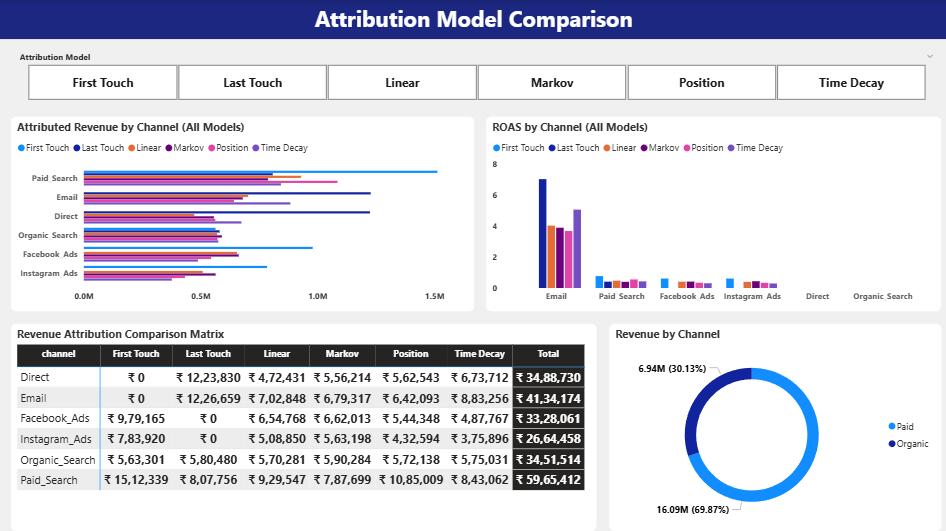

The page's visual inventory and layout, read from the dashboard file:
{"tool":"powerbi","page":{"name":"Attribution Analysis","canvas":[1380,780],"ordinal":1},"visuals":[{"type":"textbox","box":[0,0,1379.2,57.3],"z":0},{"type":"clusteredBarChart","title":"Attributed Revenue by Channel (All Models)","fields":{"Category":["attribution_comparison.channel"],"Y":["Sum(attribution_comparison.attributed_revenue)"],"Series":["attribution_comparison.attribution_model"]},"box":[15.2,170.3,674.4,283.3],"z":2000},{"type":"donutChart","title":"Revenue by Channel","fields":{"Category":["attribution_comparison.channel_type"],"Y":["Sum(attribution_comparison.attributed_revenue)"]},"box":[887.2,471.2,483.3,302.1],"z":3000},{"type":"pivotTable","title":"Revenue Attribution Comparison Matrix","fields":{"Rows":["attribution_comparison.channel"],"Columns":["attribution_comparison.attribution_model"],"Values":["Sum(attribution_comparison.attributed_revenue)"]},"box":[15.5,471.2,852.7,302.1],"z":4000},{"type":"slicer","fields":{"Values":["attribution_comparison.attribution_model"]},"box":[15.2,69.1,1355.6,82.6],"z":5000},{"type":"clusteredColumnChart","title":"ROAS by Channel (All Models)","fields":{"Category":["attribution_comparison.channel"],"Series":["attribution_comparison.attribution_model"],"Y":["Sum(attribution_comparison.roas)"]},"box":[708.1,170.3,662.6,283.3],"z":6000}]}

Visuals, with their boxes in screenshot pixels (x1, y1, x2, y2), scaled from the page's 1380x780 canvas onto the 946x531 screenshot:
textbox: (x1=0, y1=0, x2=945, y2=39)
"Attributed Revenue by Channel (All Models)" clusteredBarChart: (x1=10, y1=116, x2=473, y2=309)
"Revenue by Channel" donutChart: (x1=608, y1=321, x2=939, y2=526)
"Revenue Attribution Comparison Matrix" pivotTable: (x1=11, y1=321, x2=595, y2=526)
slicer - attribution_comparison.attribution_model: (x1=10, y1=47, x2=940, y2=103)
"ROAS by Channel (All Models)" clusteredColumnChart: (x1=485, y1=116, x2=940, y2=309)
